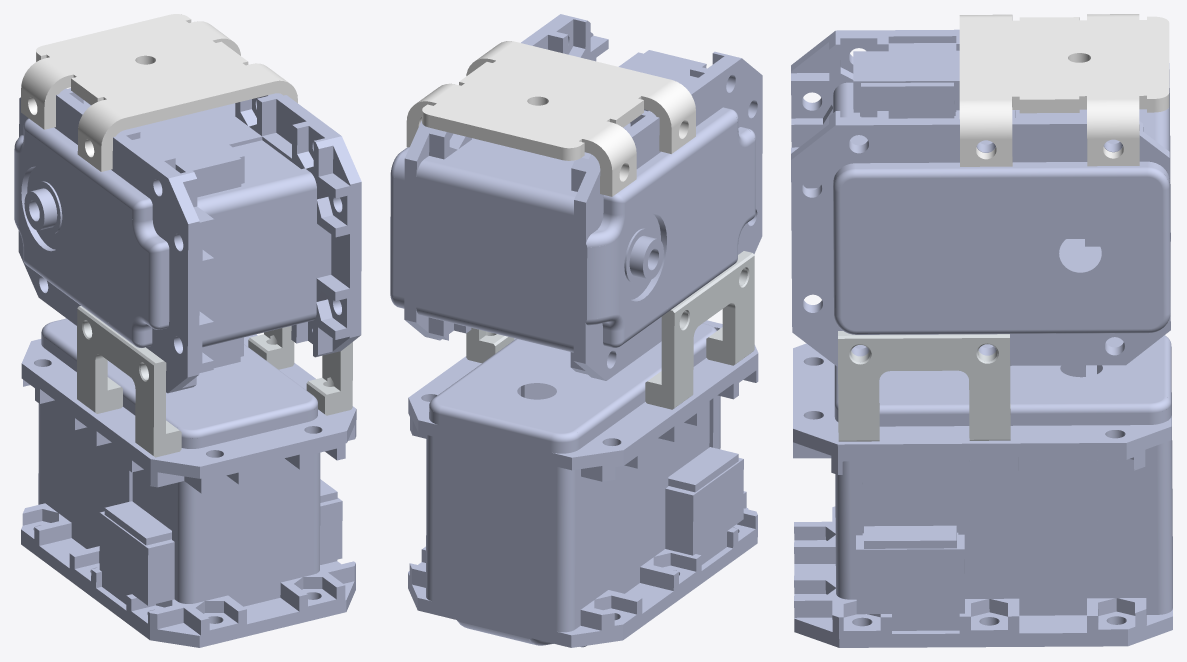
3 renders of one model, left to right at view 1: azimuth 30°, elevation 25°; view 2: azimuth 150°, elevation 25°; view 3: azimuth 270°, elevation 25°, orthographic. The views are drawn at different scales.
Visible parts, largest first — view 1: NONE_DC_Shell, Edge_Flange1_DC_Shell, Imported1_DC_Shell; view 2: NONE_DC_Shell, Edge_Flange1_DC_Shell, Imported1_DC_Shell; view 3: NONE_DC_Shell, Edge_Flange1_DC_Shell, Imported1_DC_Shell.
Part boxes in pixels (left/top/right/bottom): NONE_DC_Shell: left=14, top=88, right=361, bottom=647; Edge_Flange1_DC_Shell: left=21, top=14, right=297, bottom=171; Imported1_DC_Shell: left=77, top=306, right=352, bottom=457; NONE_DC_Shell: left=390, top=14, right=762, bottom=647; Edge_Flange1_DC_Shell: left=406, top=41, right=695, bottom=196; Imported1_DC_Shell: left=466, top=251, right=754, bottom=409; NONE_DC_Shell: left=791, top=29, right=1172, bottom=647; Edge_Flange1_DC_Shell: left=959, top=14, right=1169, bottom=166; Imported1_DC_Shell: left=838, top=331, right=1010, bottom=441.
Bounding box in the file's own units: 37 × 82.84 × 51.04.
